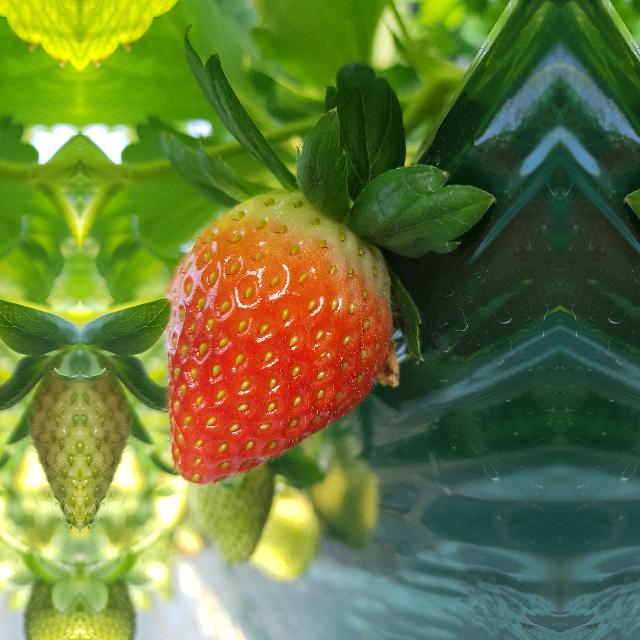Health_100: (161, 188, 393, 484)
